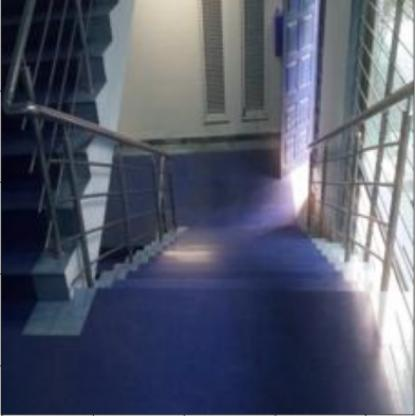stair_down: (127, 228, 357, 320)
